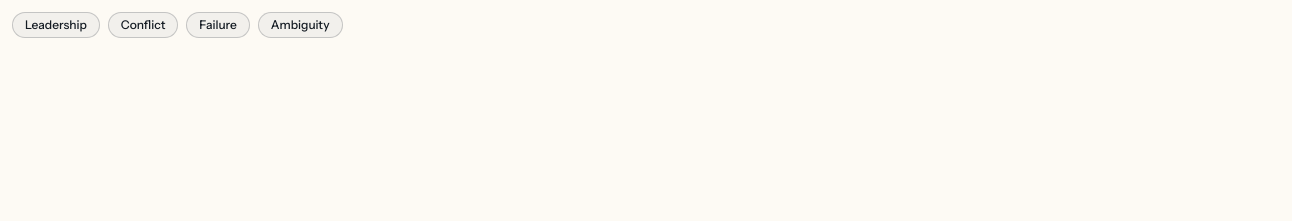
Test case: CompetencyChips › clicking a different chip switches the panel
The width and height of the screenshot is (1292, 221).
Click the button with test id "chip-Leadership" at (56, 25), box [12,12,100,38]
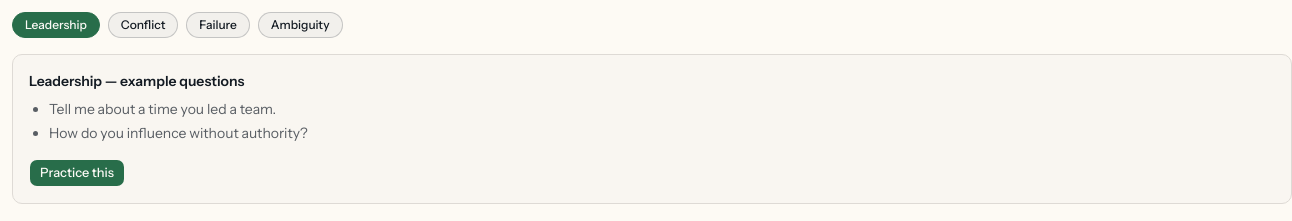
Expected: the element with test id "panel-Leadership" is shown
Click the button with test id "chip-Failure" at (218, 25), box [186,12,250,38]
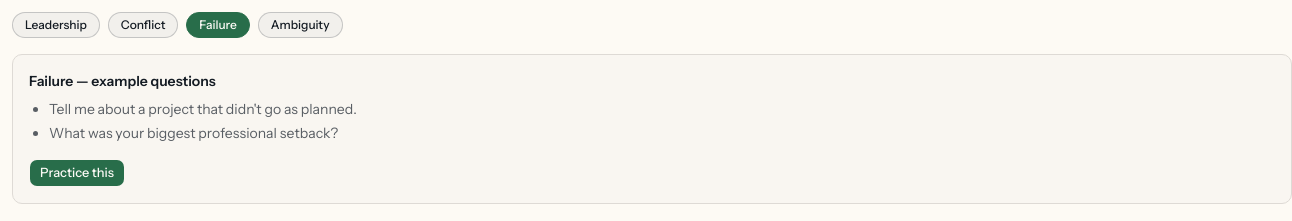
Expected: the element with test id "panel-Failure" is shown
